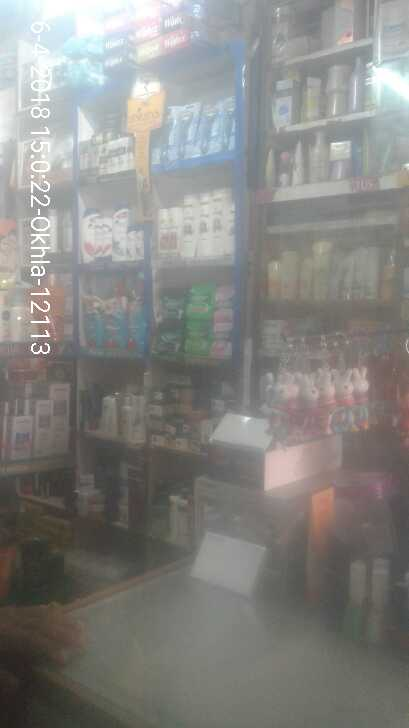venus: (176, 103, 197, 162), (217, 94, 235, 152), (197, 103, 217, 152), (164, 104, 176, 162)
